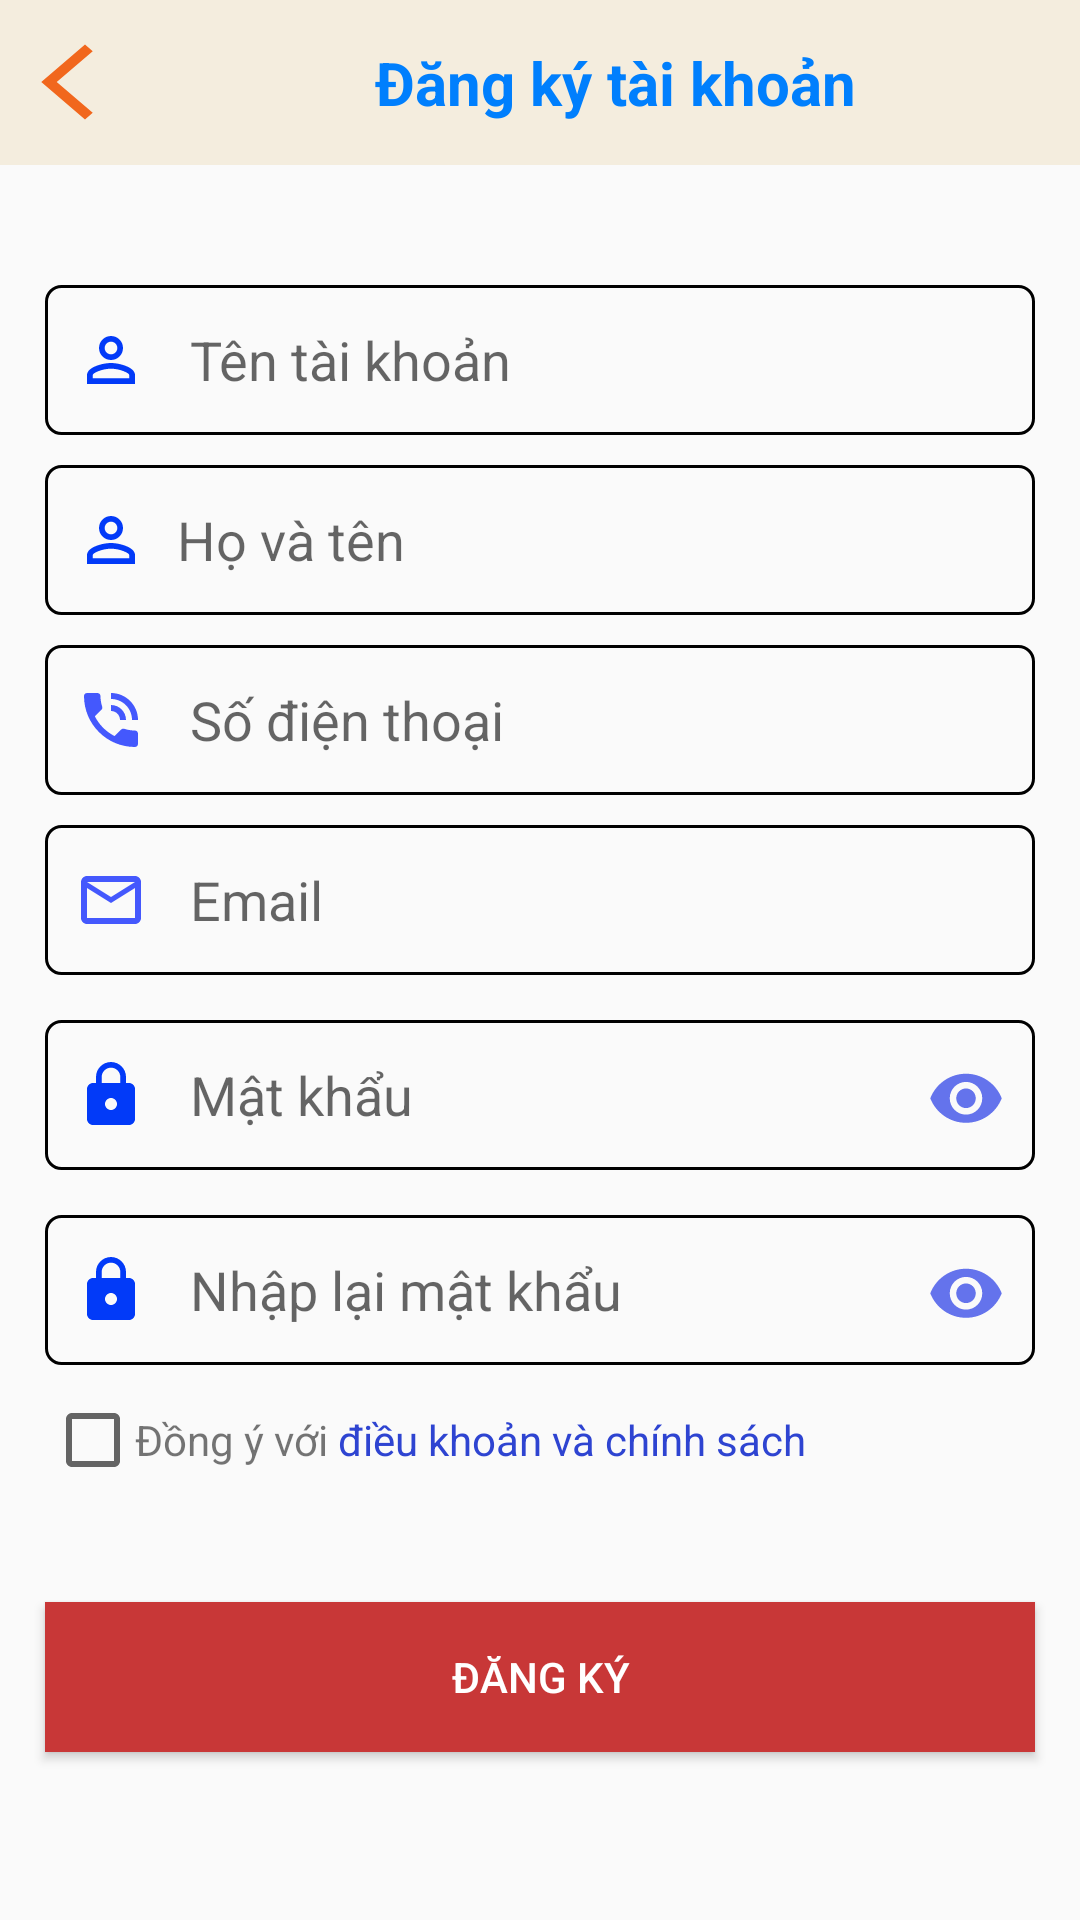

Icon click points for this 1080x1920 phone screenshot, format (x,y):
arrow back: (67,82)
